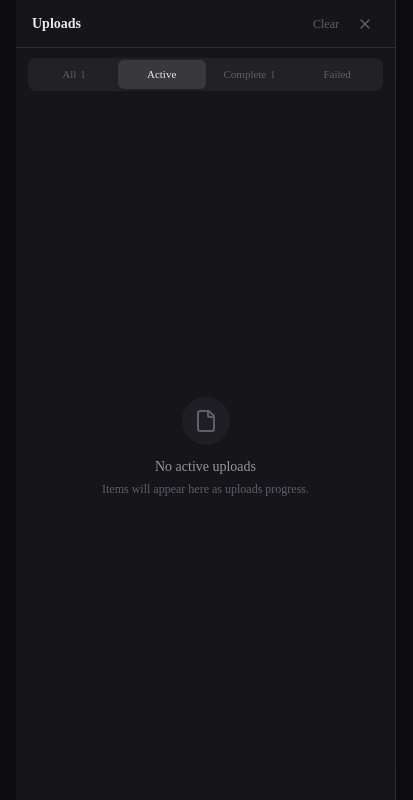
Test: when a finished row says it finished › counts from when it finished: a file that waited 25 minutes says "just now"
The image size is (413, 800).
Click the button "All1" at (74, 74), box [30,60,118,88]
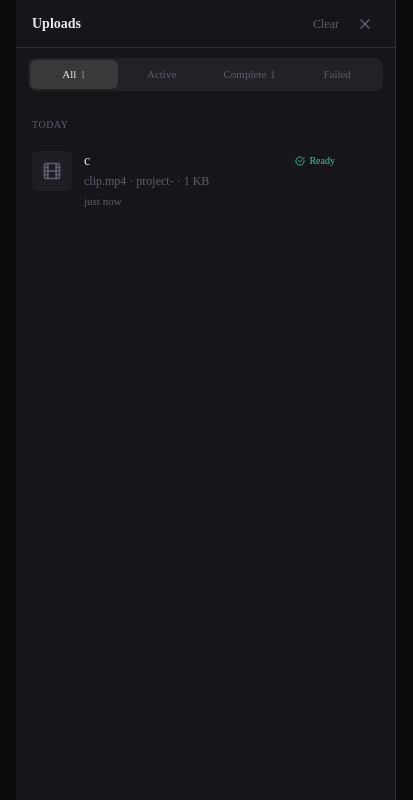
Result: the text "just now" is shown at [84,192,122,209]
